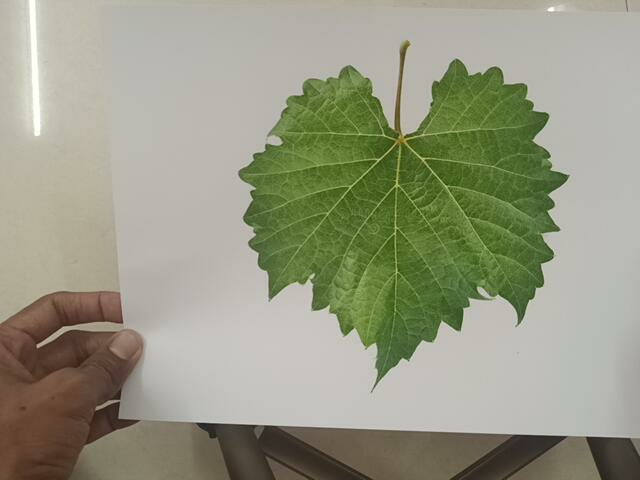Grape_Healthy: (240, 29, 572, 389)
